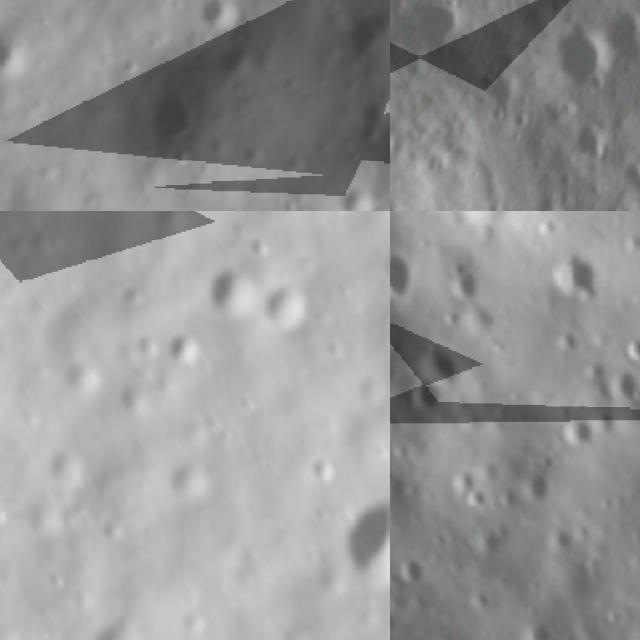crater: (390, 6, 545, 211), (100, 52, 232, 184), (541, 12, 627, 105), (539, 240, 619, 320), (338, 491, 390, 602), (390, 0, 477, 66), (197, 259, 266, 325), (410, 335, 474, 401), (588, 0, 640, 79), (329, 6, 390, 72), (182, 0, 254, 54), (257, 276, 312, 340), (164, 446, 216, 513), (390, 238, 432, 315), (444, 258, 495, 310), (554, 410, 605, 461), (402, 374, 453, 424), (0, 28, 38, 93), (317, 176, 385, 211), (390, 549, 438, 598), (537, 518, 585, 566), (167, 318, 209, 372), (515, 467, 561, 514), (603, 364, 640, 413), (445, 466, 483, 505), (461, 583, 500, 621), (460, 483, 498, 518), (552, 328, 589, 363), (517, 615, 568, 640), (616, 330, 640, 373), (390, 452, 405, 492)
